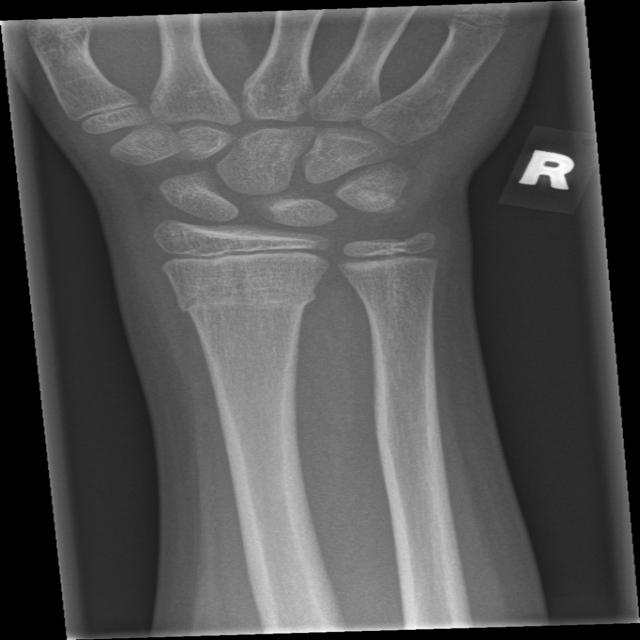radius fracture: (165, 268, 327, 342)
